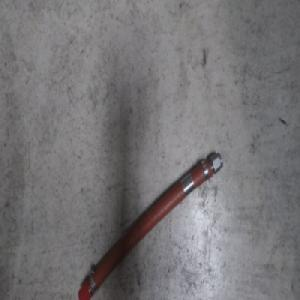Hose: (76, 147, 223, 300)
